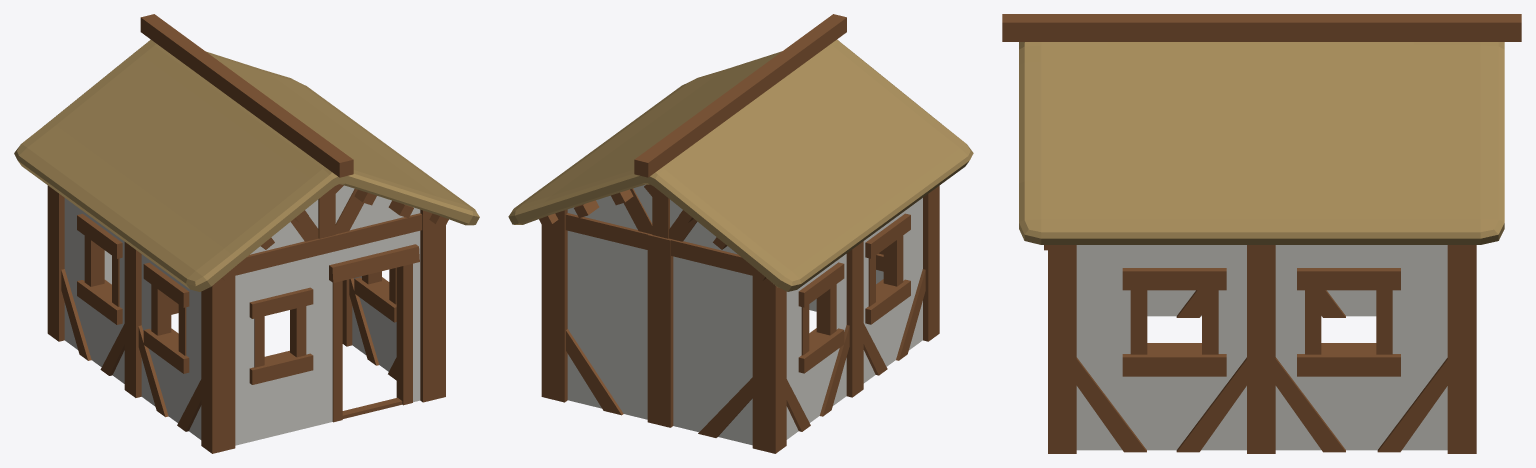
Rendered from housemodel.fbx.
The picture shows the model from 3 angles, left to right: view 1: azimuth 30°, elevation 25°; view 2: azimuth 150°, elevation 25°; view 3: azimuth 270°, elevation 25°; orthographic projection. The views are drawn at different scales.
Parts seen in each view (by area): view 1: House; view 2: House; view 3: House.
Part boxes in pixels (x1,y1,x2,y2): House: (14,14,479,453); House: (508,14,973,453); House: (1002,14,1521,453).
Size of the model in its own units: 454 by 414 by 540.
